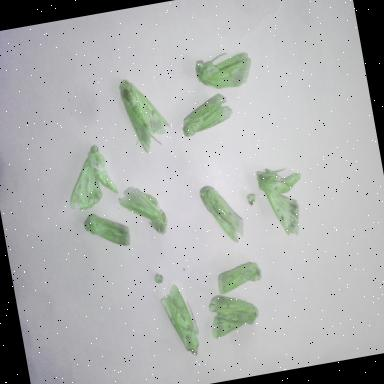abw: (116, 70, 178, 160), (252, 160, 314, 245), (57, 140, 124, 218), (155, 278, 207, 366), (188, 42, 260, 104), (200, 284, 268, 348), (195, 178, 250, 256), (113, 178, 174, 246), (175, 90, 240, 143), (80, 206, 136, 259), (211, 253, 269, 301)
